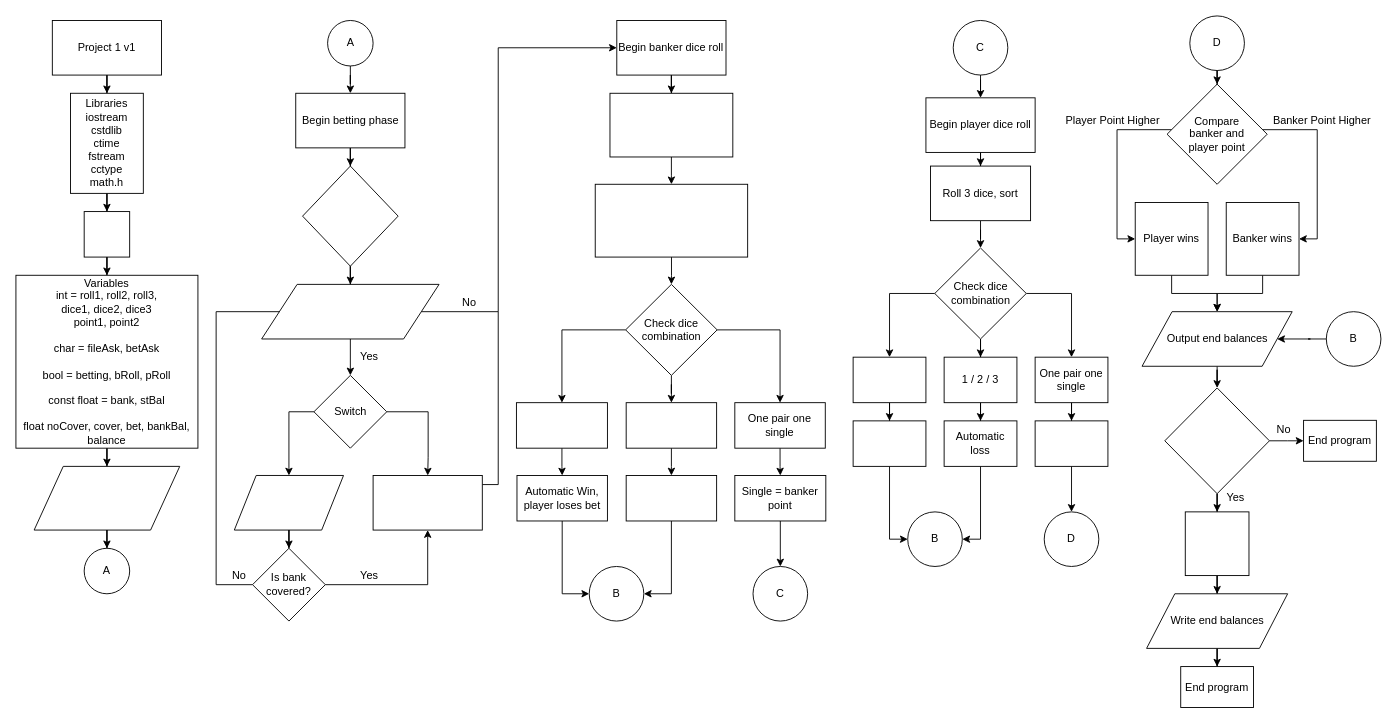
Image size: 1397x723. Some labels were removed from this diagram. The centre of each missing label's shape, as x and y in pixels:
"1 / 2 / 3 non-1 pair with 1" goes at (x=671, y=425).
"All 3 same 4 / 5 / 6" goes at (x=889, y=379).
"All 3 Same 4 / 5 / 6 non-6 pair with 6" goes at (x=561, y=425).
"Ask if player wants to bet" goes at (x=350, y=311).
"Ask if user wants to write to file" goes at (x=1216, y=440).
"Automatic Loss, player wins bet" goes at (x=671, y=498).
"Automatic win" goes at (x=889, y=443).
"betting = false end loop" goes at (x=427, y=502).
"Do While betting = true" goes at (x=350, y=215).
"input player bet" goes at (x=288, y=502).
"Main" goes at (x=106, y=234).
"Open records.txt" goes at (x=1216, y=543).
"Output starting bank and balance" goes at (x=106, y=497).
"Roll 3 dice roll1 = rand() % 6 +1 roll2 = rand() % 6 + 1 roll3 = rand() % 6 +1" goes at (x=671, y=124).
"Single = player point" goes at (x=1071, y=443).
"Sort dice least to greatest dice1 = least dice2 = middle dice3 = greatest" goes at (x=671, y=220).
